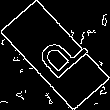P_SW: (23, 25, 87, 85)
